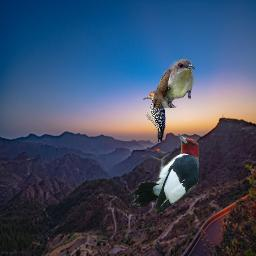Cuckoo: (153, 59, 195, 108)
Woodpecker: (128, 133, 199, 214), (143, 91, 166, 142)
